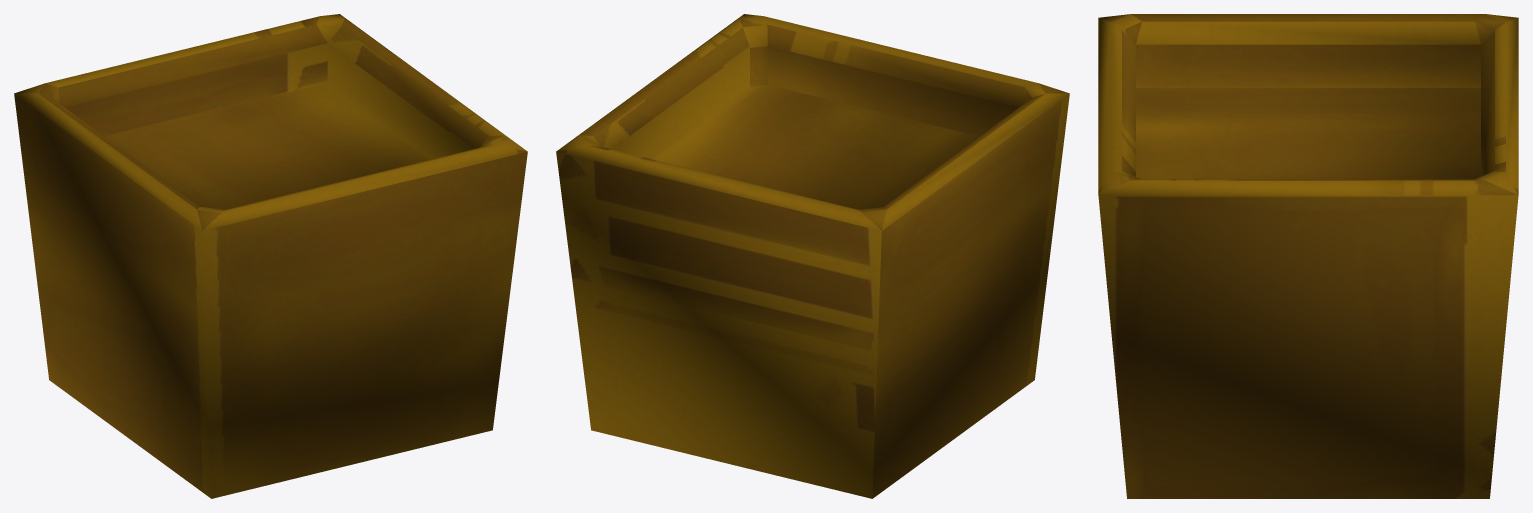
Rendered from wall.obj.
3 views of the same model, side by side, from view 1: azimuth 30°, elevation 25°; view 2: azimuth 150°, elevation 25°; view 3: azimuth 270°, elevation 25° (orthographic). The views are drawn at different scales.
Visible parts, largest first — view 1: Box002; view 2: Box002; view 3: Box002.
Part boxes in pixels (x1,y1,x2,y2): Box002: (14, 14, 527, 498); Box002: (556, 14, 1069, 498); Box002: (1098, 14, 1518, 498).
Bounding box in the file's own units: 1.16 × 0.988 × 1.16.
